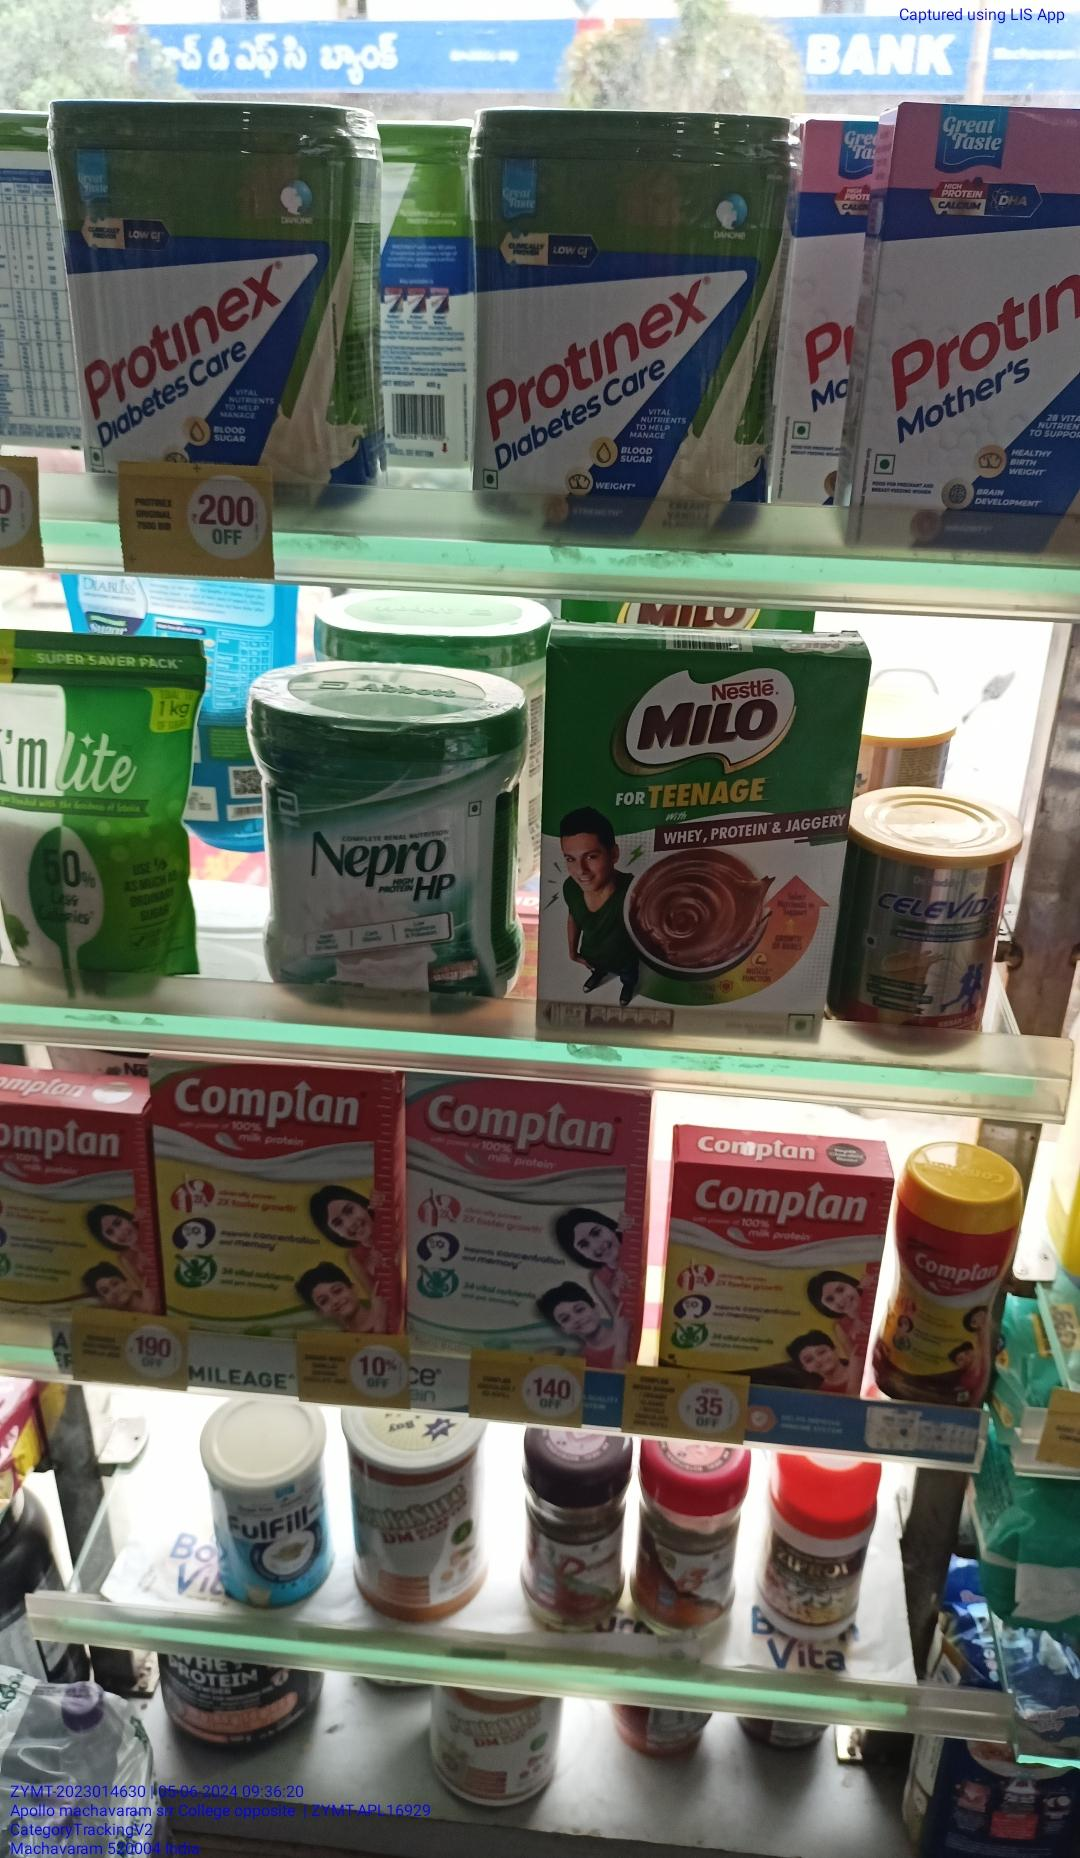COMPLAN_CHOCOLATE_200_GMS_JAR: (892, 1161, 1020, 1400)
COMPLAN_CHOCOLATE_200_GMS_PACK: (667, 1169, 878, 1390)
COMPLAN_KESAR_BADAM_500_GMS_PACK: (406, 1074, 635, 1366)
COMPLAN_PISTA_BADAM_500_GMS_PACK: (162, 1063, 395, 1350)
